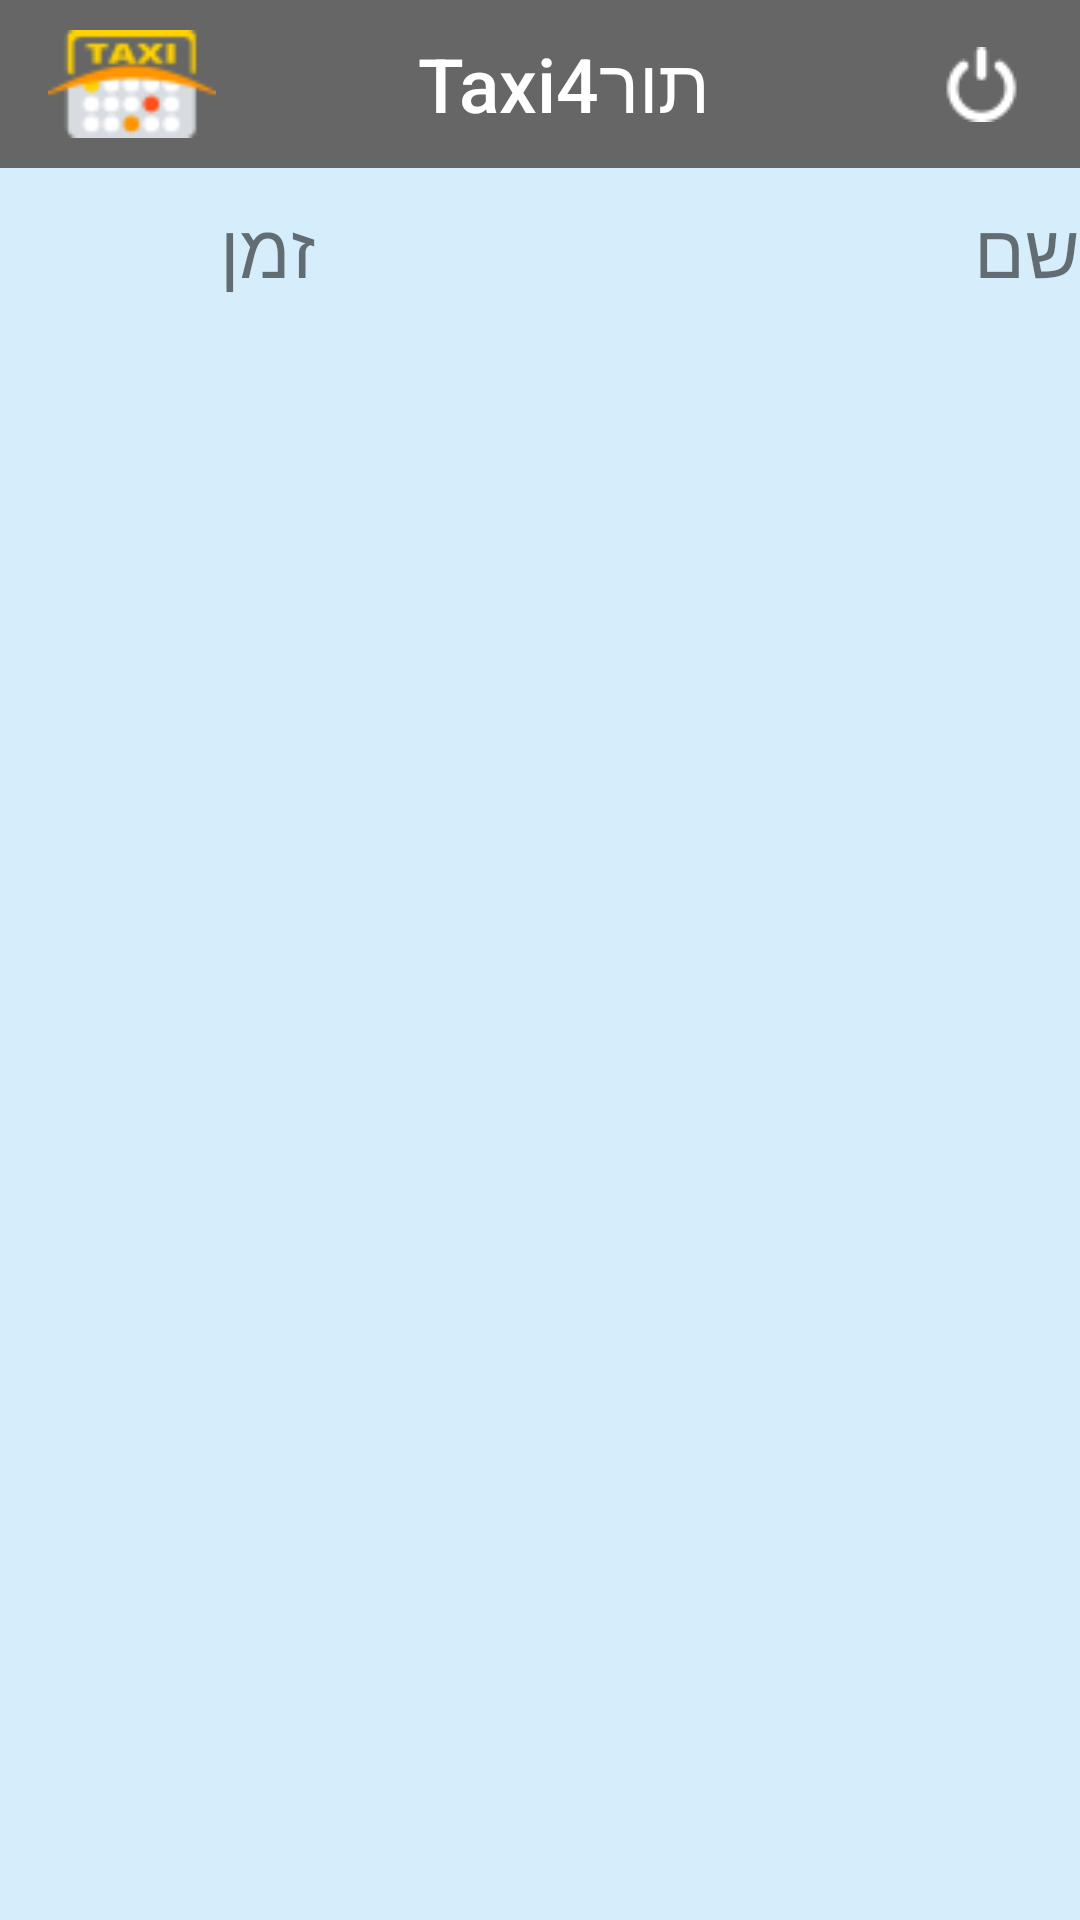

Point at icon controls on the screen. Image size 1080*1920, points as point (x, y).
power: point (981, 84)
